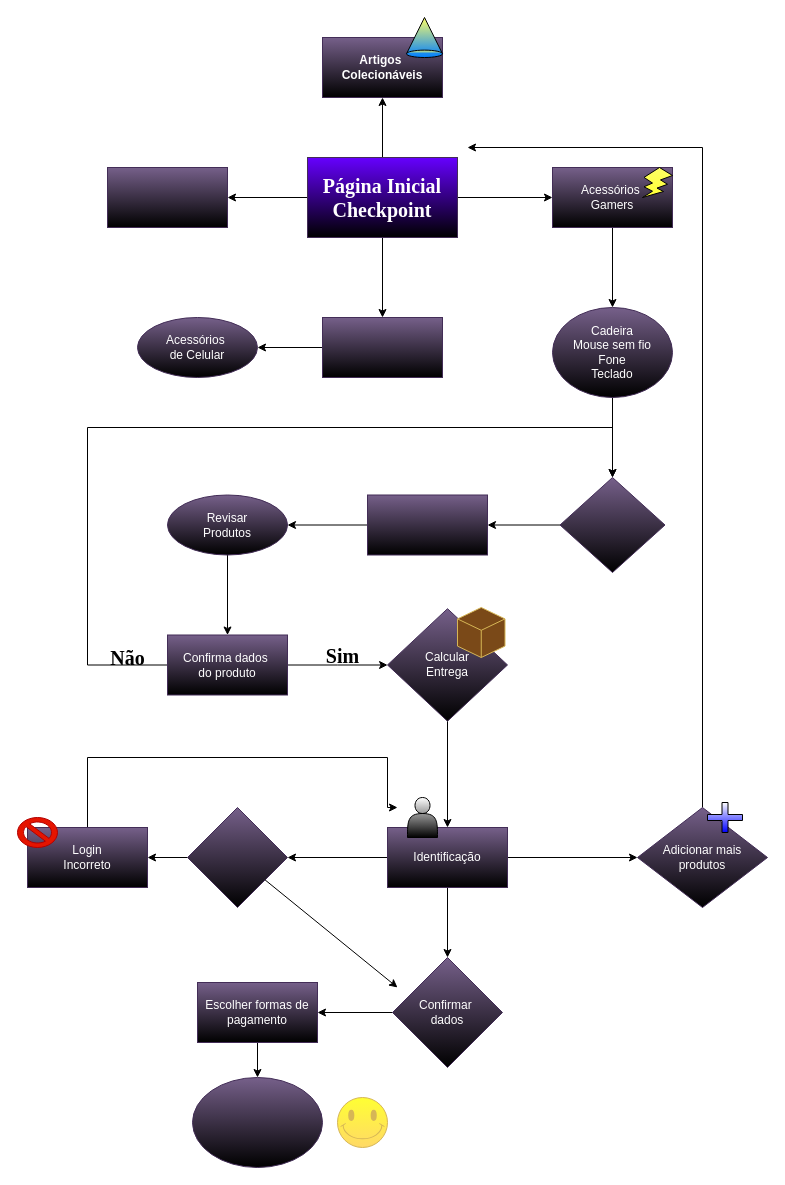
Image size: 785x1185. Some labels were removed from this diagram. The centre of each missing label's shape, as x and y in pixels:
"Adicionar ao Carrinho" belongs at point 427,524.
"Aparelhos de Celular" belongs at point 382,347.
"Avaliação de Clientes / Quem somos" belongs at point 167,197.
"Escolher Produto" belongs at point 612,524.
"Finalizar Compra" belongs at point 257,1122.
"Login Correto" belongs at point 237,857.
